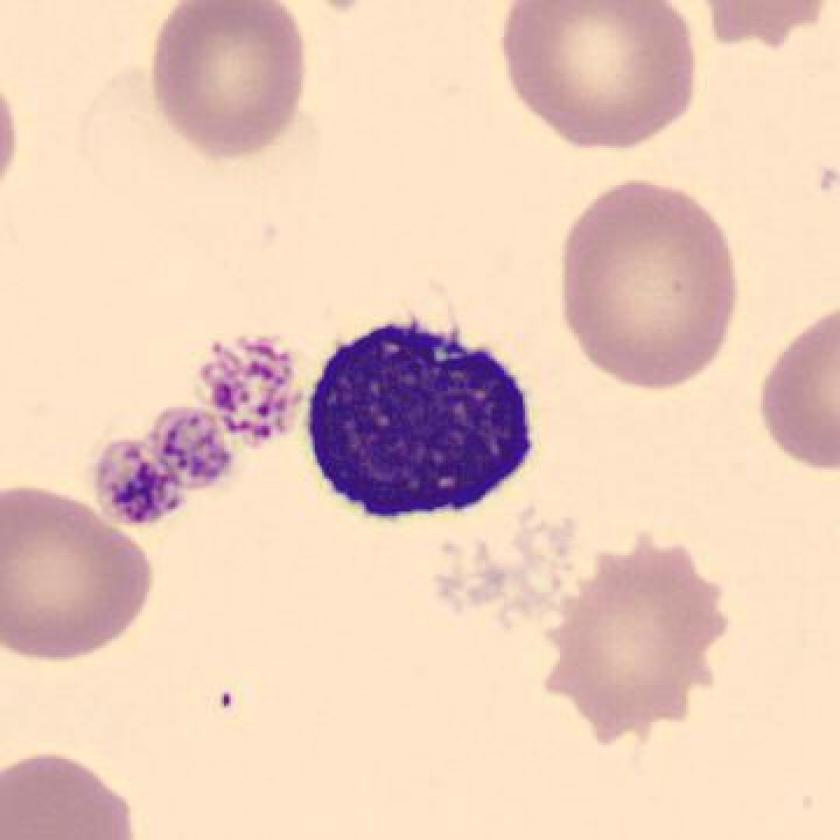lymphocyte: (293, 307, 549, 547)
